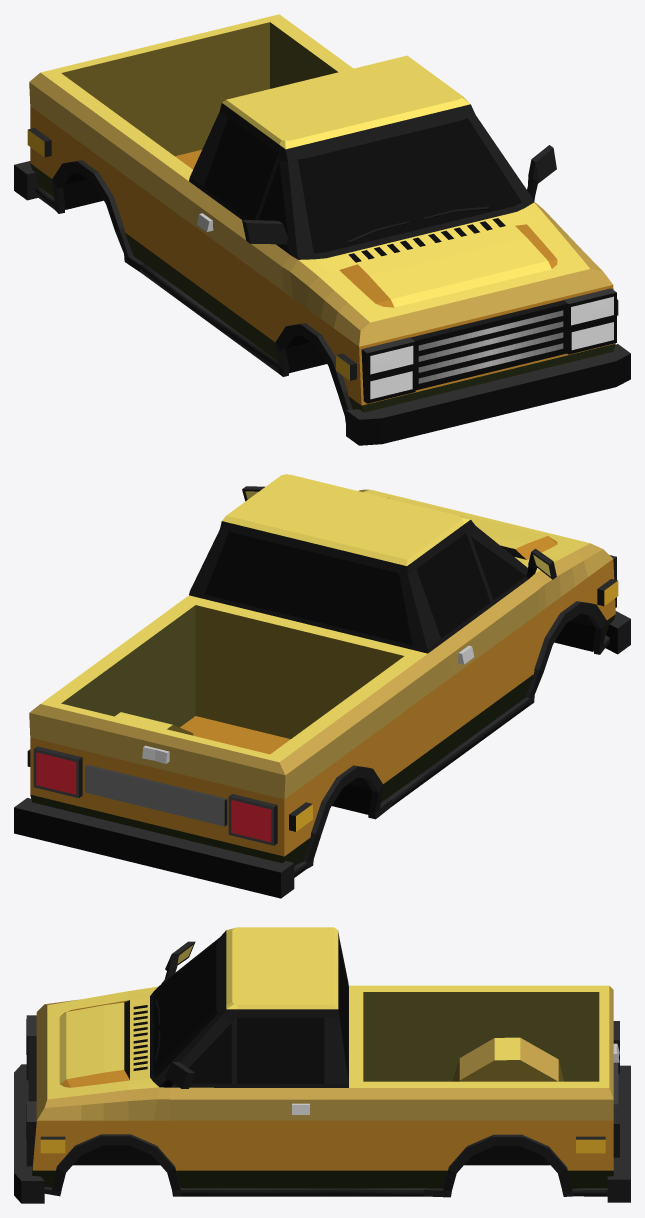
The model's file is PickUp.007.fbx.
The picture shows the model from 3 angles, top to bottom: view 1: azimuth 30°, elevation 25°; view 2: azimuth 150°, elevation 25°; view 3: azimuth 270°, elevation 25°; orthographic projection. The views are drawn at different scales.
Visible parts, largest first — view 1: PickUp.007; view 2: PickUp.007; view 3: PickUp.007.
Boxes of the visible parts, x1,y1,x2,y2 form: PickUp.007: (14,14,630,445); PickUp.007: (14,474,630,898); PickUp.007: (14,927,630,1203).
Size of the model in its own units: 2.02 by 1.28 by 4.
